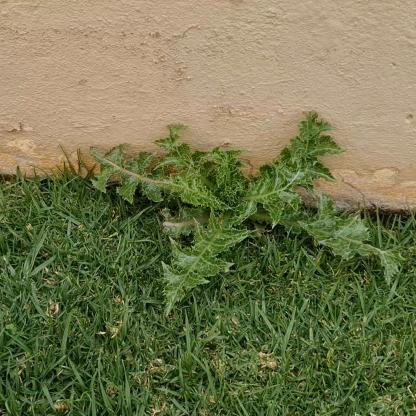Weeds: (86, 111, 403, 315)
